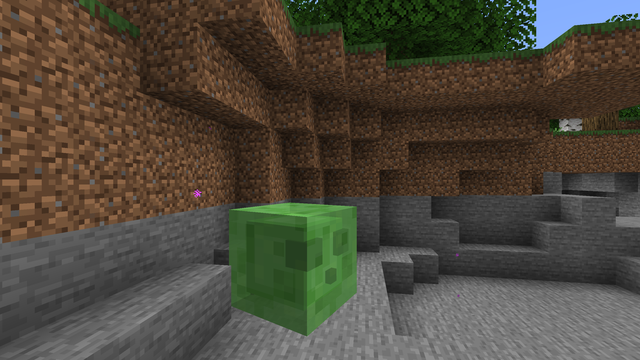slimes: (228, 200, 346, 330)
